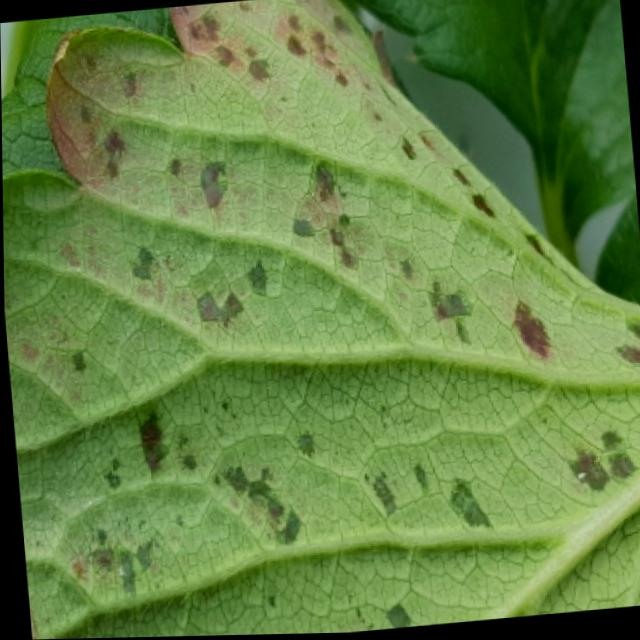Angular Leafspot: (2, 0, 640, 640)
